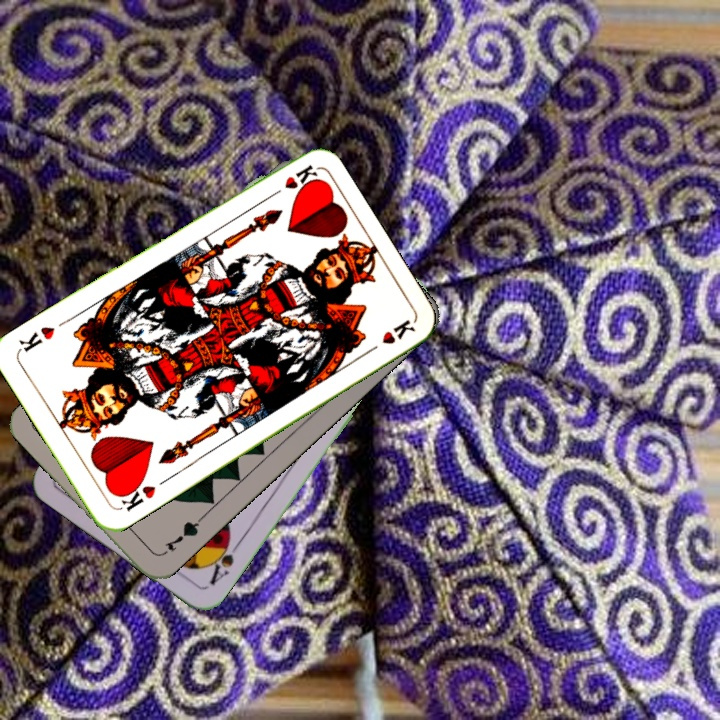G7: (160, 513, 205, 554)
HK: (263, 160, 319, 202), (114, 476, 158, 514)
SA: (204, 532, 243, 588)
